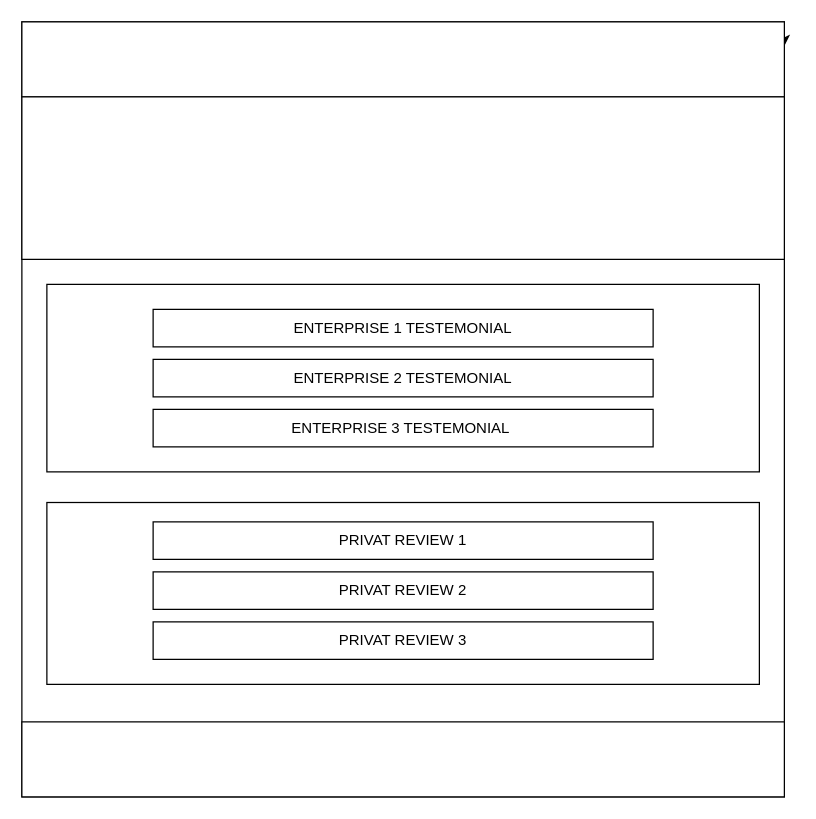
This 816x819 diagram has some shape labels left out. Each missing label, with the centre of its shape:
"FOOTER (D)" goes at point (402, 759).
"HERO 3 (DISPLAYS THEME OF SUBPAGE)" goes at point (402, 177).
"NAVBAR (D)" goes at point (402, 59).
